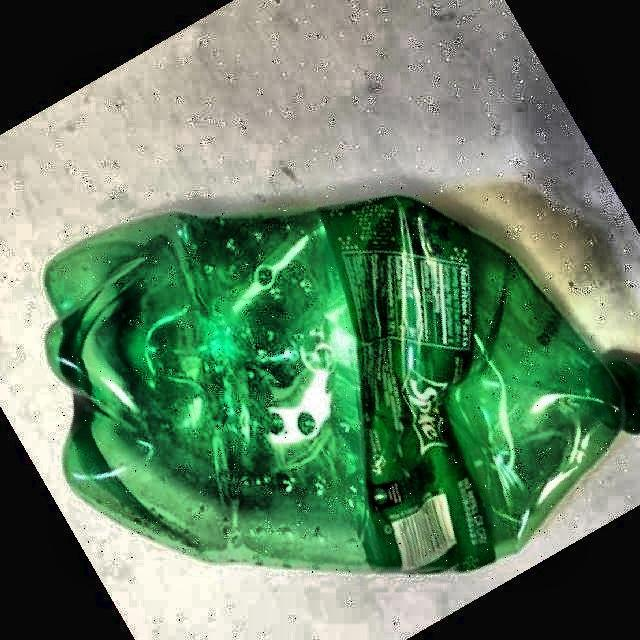plastic: (45, 196, 640, 572)
